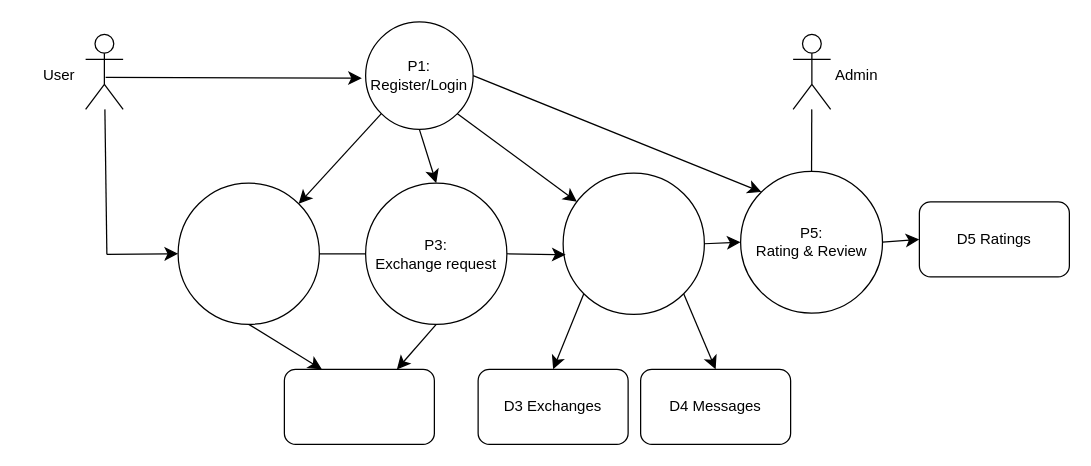
This 1091x466 diagram has some shape labels left out. The shapes that lost their labels are listed below. From the top down, each one's box as (x1, y1, x2, y2) in pixels, then its label:
(177, 182, 319, 324): P2: Manage profile & skill
(562, 172, 704, 314): P4: Messaging
(283, 368, 434, 444): D1 Users D2 Skills
